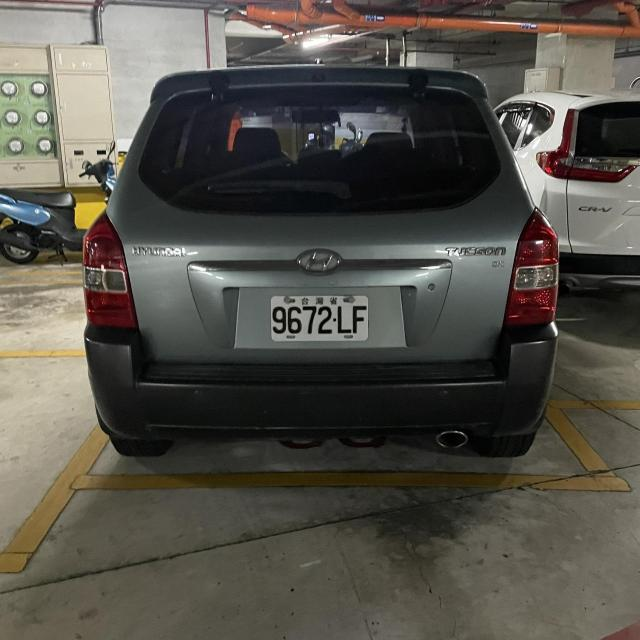W: (264, 288, 373, 351)
